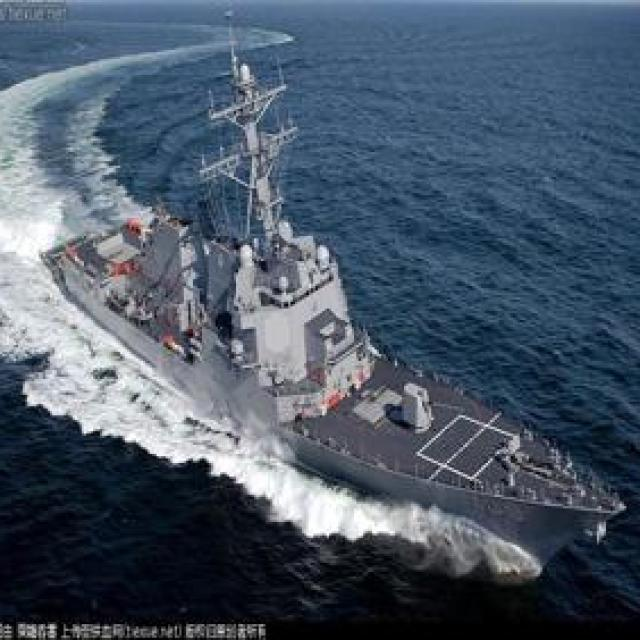navalvessels: (42, 97, 585, 535)
